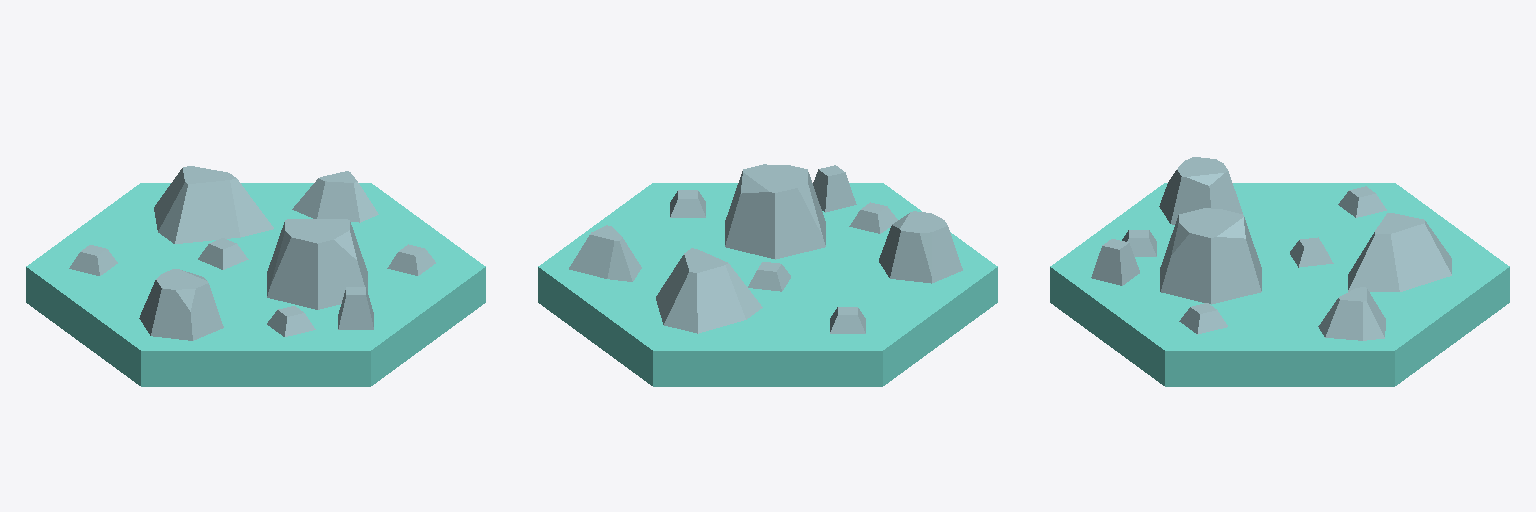
File: water_rocks.obj
3 renders of one model, left to right at view 1: azimuth 30°, elevation 25°; view 2: azimuth 150°, elevation 25°; view 3: azimuth 270°, elevation 25°, orthographic.
Visible parts, largest first — view 1: water_rocks, rockLarge, rock; view 2: water_rocks, rockLarge, rock; view 3: water_rocks, rockLarge, rock.
Boxes of the visible parts, x1,y1,x2,y2 form: water_rocks: [26, 183, 485, 386]; rockLarge: [139, 166, 378, 340]; rock: [69, 238, 435, 336]; water_rocks: [538, 183, 997, 386]; rockLarge: [569, 164, 962, 333]; rock: [670, 165, 897, 333]; water_rocks: [1050, 183, 1509, 386]; rockLarge: [1159, 157, 1451, 340]; rock: [1091, 186, 1386, 334].
Size of the model in its own units: 1 by 0.2593 by 1.15.